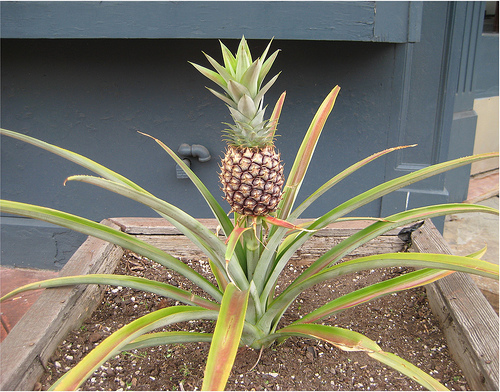pineapple: (184, 32, 288, 219)
